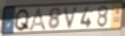4: (79, 5, 93, 29)
8: (47, 7, 62, 31), (97, 5, 110, 29)
A: (27, 6, 48, 31)
Q: (13, 8, 31, 33)
V: (63, 5, 80, 30)
